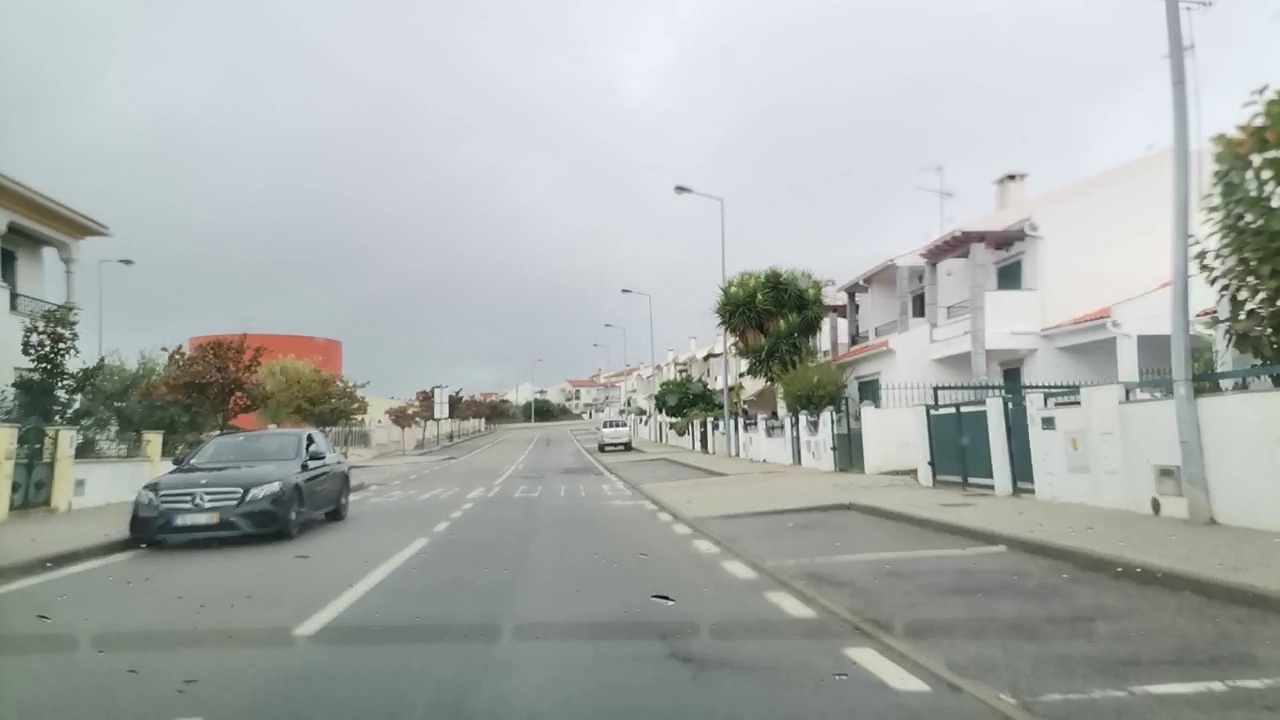Stairs: (348, 481, 634, 502)
